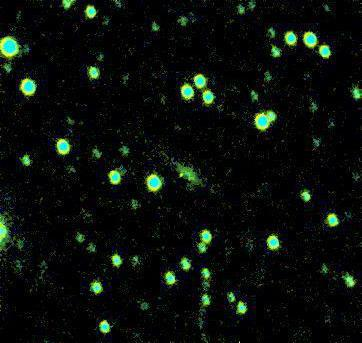star: (167, 164, 197, 194)
